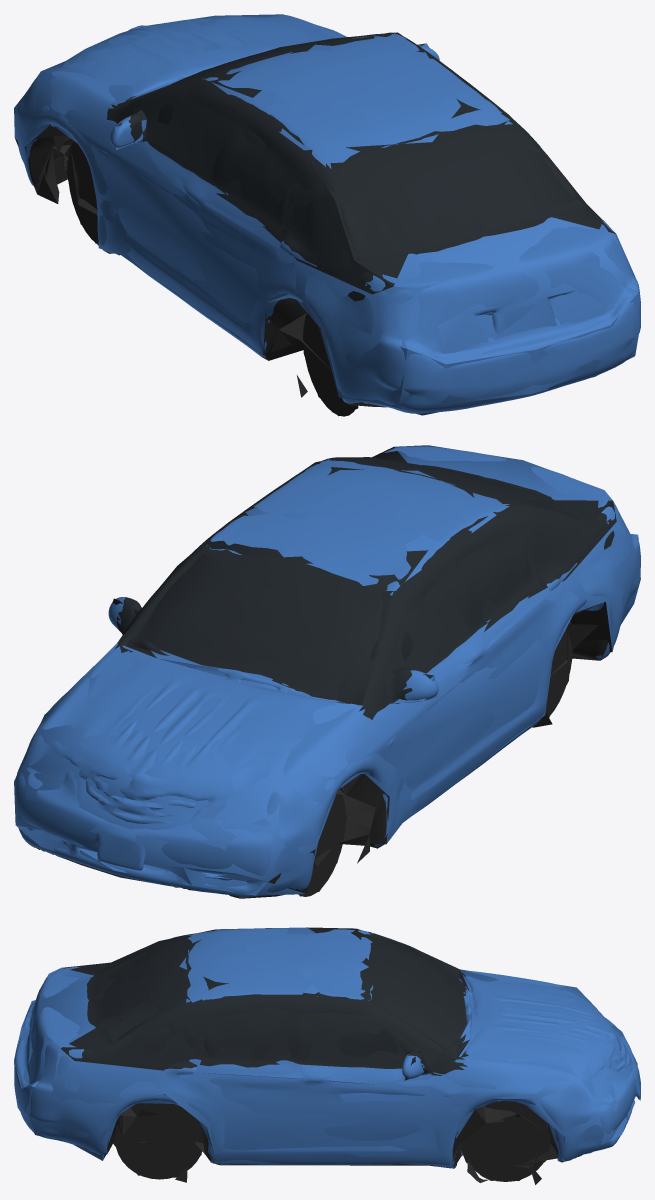
The model's file is chrysler-sebring.glb.
3 renders of one model, top to bottom at view 1: azimuth 30°, elevation 25°; view 2: azimuth 150°, elevation 25°; view 3: azimuth 270°, elevation 25°, orthographic. The views are drawn at different scales.
Parts seen in each view (by area): view 1: body, far; view 2: body, far; view 3: body, far.
Boxes of the visible parts, x1,y1,x2,y2 form: body: (15,14,640,416); far: (14,14,638,416); body: (14,446,640,898); far: (14,445,640,896); body: (14,928,640,1184); far: (14,927,640,1180).
Bounding box in the file's own units: 2.28 × 1.61 × 4.96.
